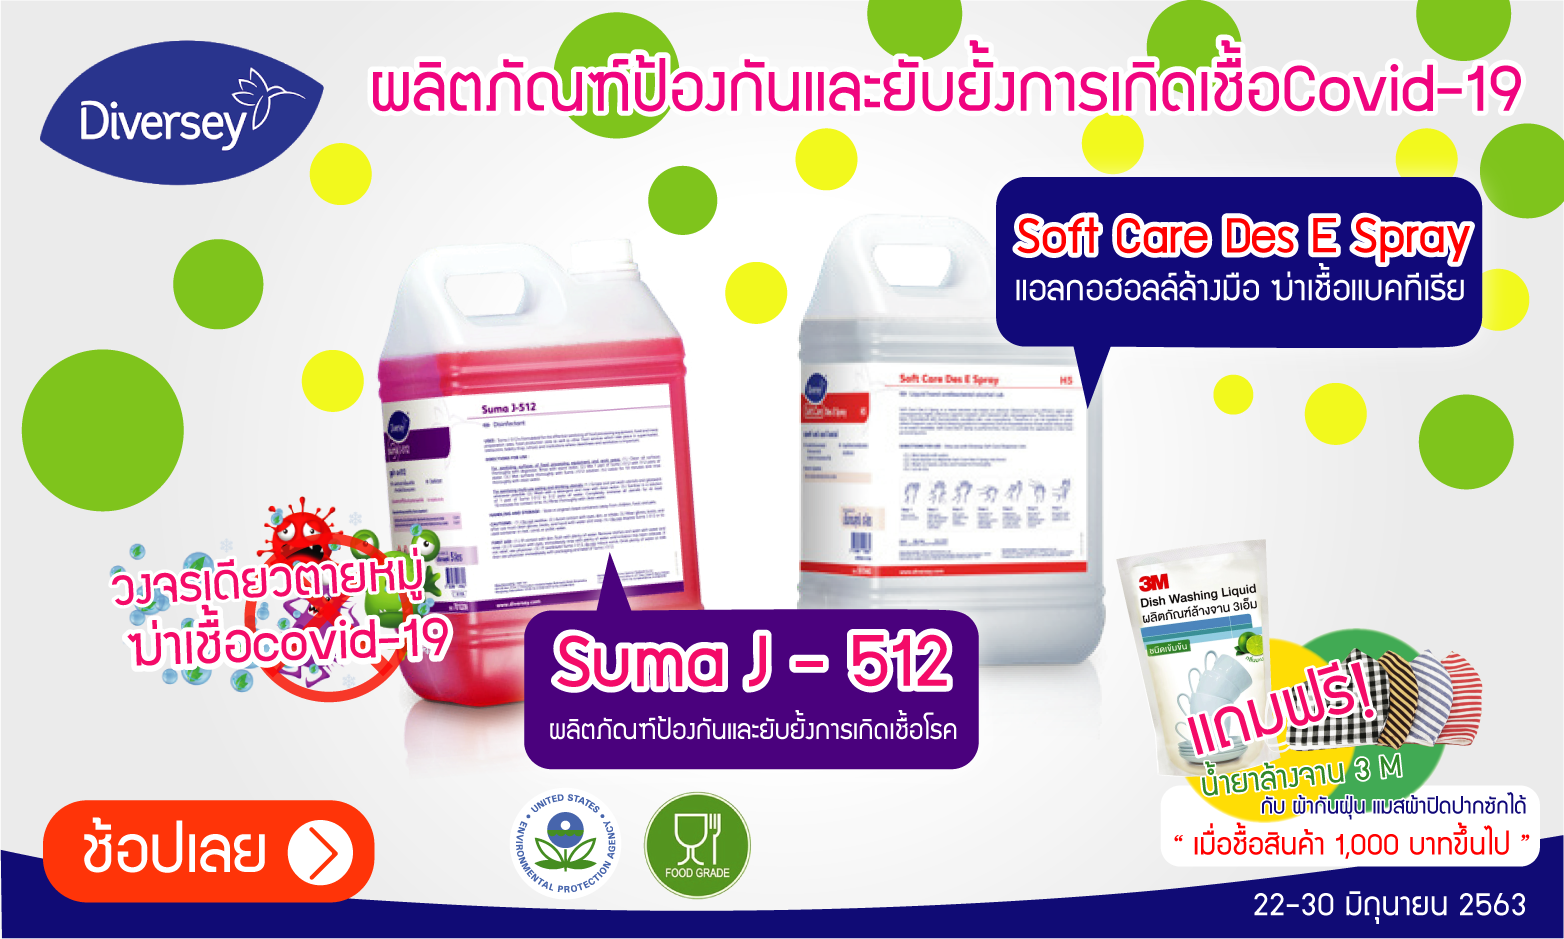Cleaning_solution: (370, 230, 711, 708), (786, 205, 1115, 677)
